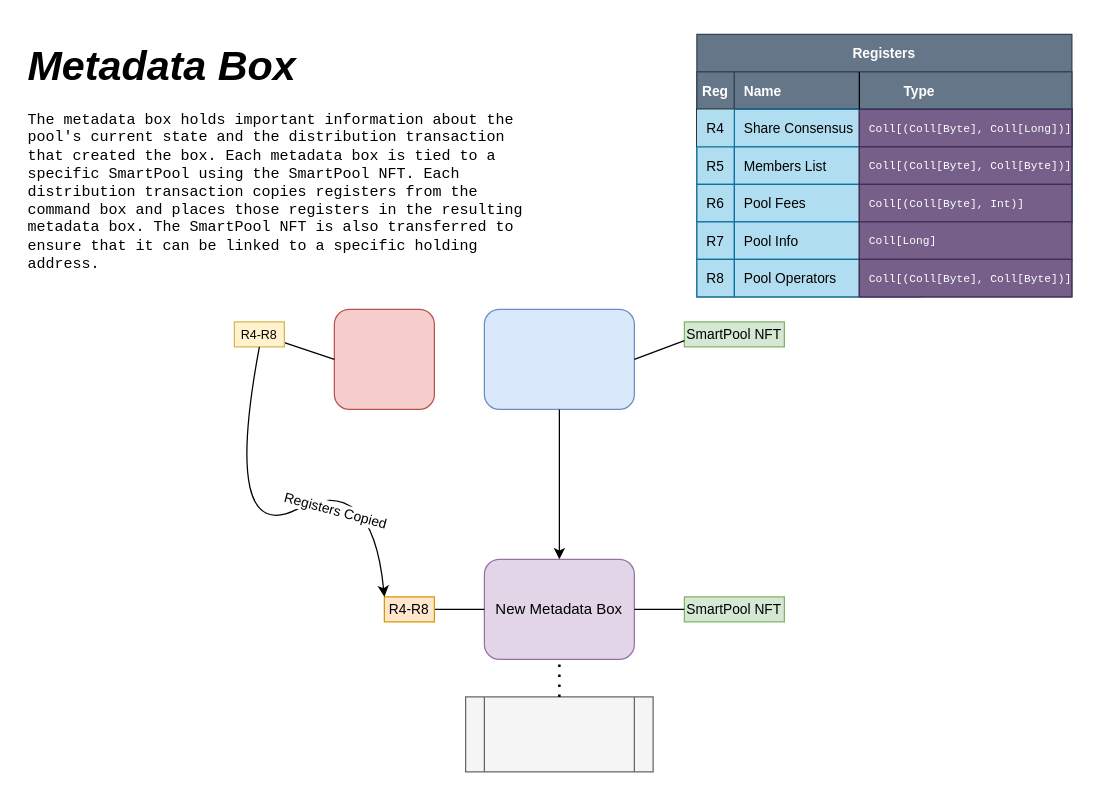
This 1094x794 diagram has some shape labels left out. Each missing label, with the centre of its shape:
"Command Box" goes at pixel 383 358.
"Metadata Box" goes at pixel 558 358.
"Updated Pool Info Epoch: lastEpoch +1 Epoch Height: HEIGHT Creation Height: Same" goes at pixel 558 734.
